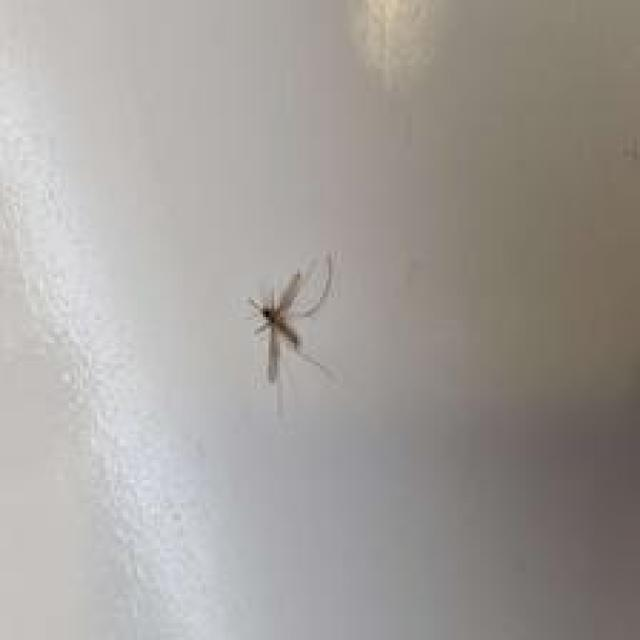Culex: (246, 249, 340, 414)
